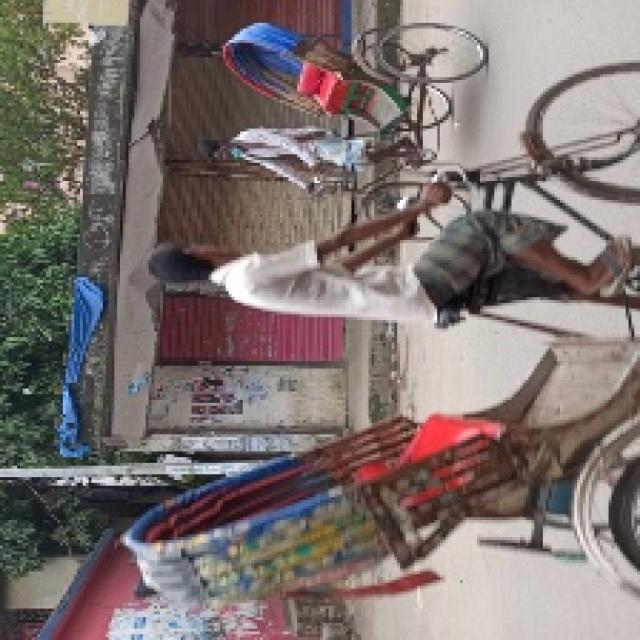rickshaw: (145, 59, 636, 595), (218, 17, 463, 239)
